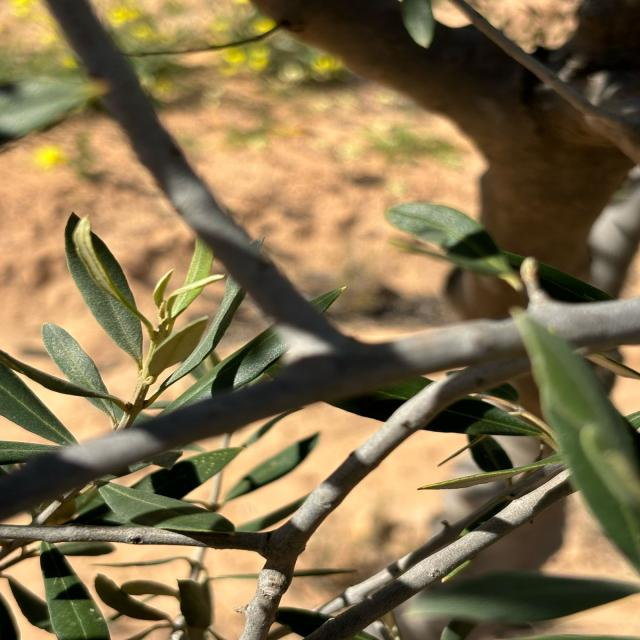Healthy: (100, 483, 235, 534), (40, 542, 110, 640), (143, 316, 208, 384)
